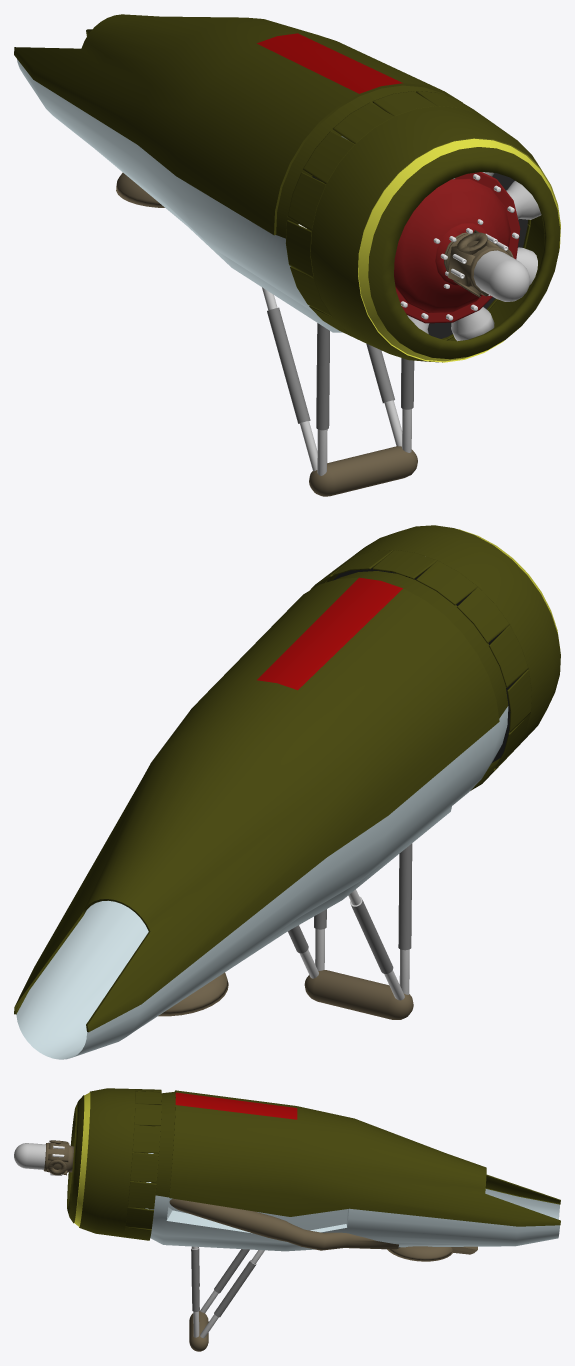
File: motor.obj
The picture shows the model from 3 angles, top to bottom: view 1: azimuth 30°, elevation 25°; view 2: azimuth 150°, elevation 25°; view 3: azimuth 270°, elevation 25°; orthographic projection. The views are drawn at different scales.
Visible parts, largest first — view 1: pasted__polySurface47; view 2: pasted__polySurface47; view 3: pasted__polySurface47.
Part boxes in pixels (x1=…): pasted__polySurface47: x1=14, y1=14, x2=560, y2=496; pasted__polySurface47: x1=14, y1=525, x2=560, y2=1059; pasted__polySurface47: x1=14, y1=1088, x2=560, y2=1351.
Bounding box in the file's own units: 4.8 × 8.13 × 16.5.
